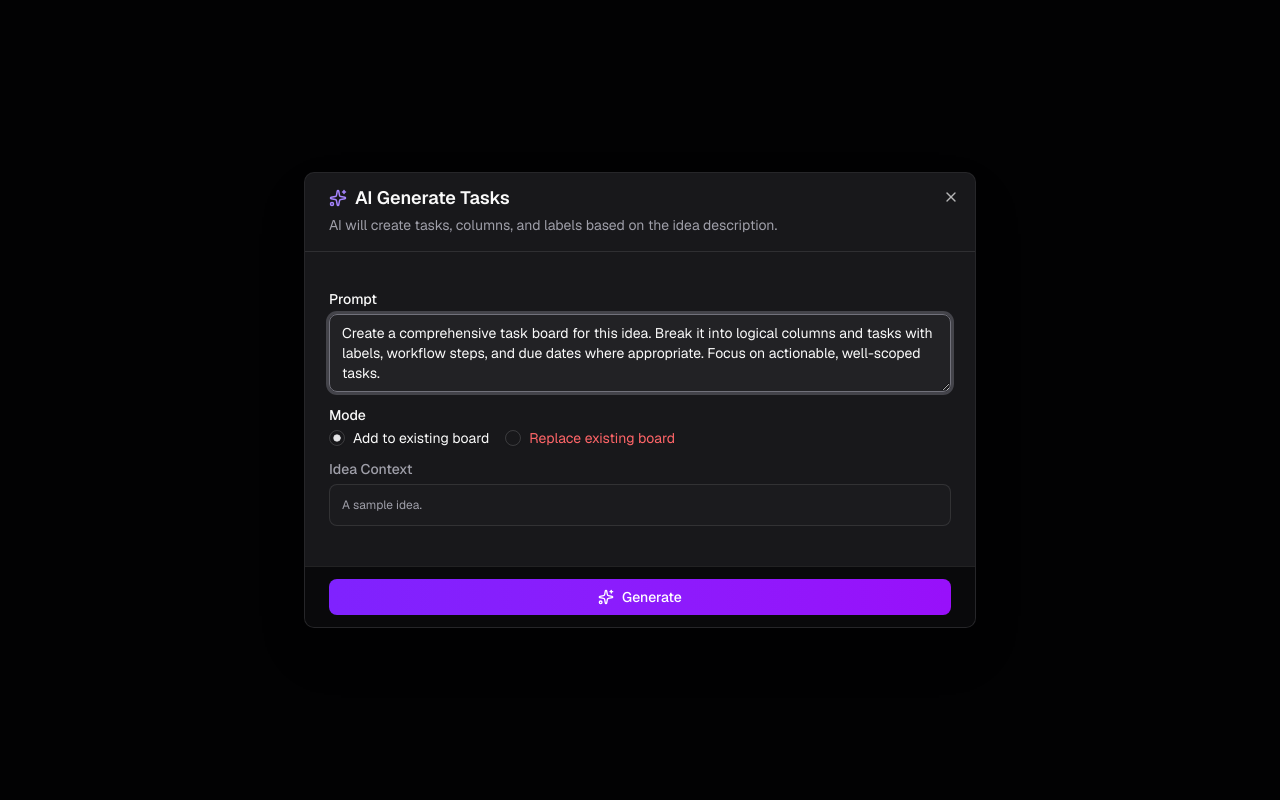
Test case: AiGenerateDialog — Generate the rest › D4: keeps unticked rows unticked and ticks the new ones
Click the button "Generate".
click(640, 597)  # box [329, 579, 951, 615]
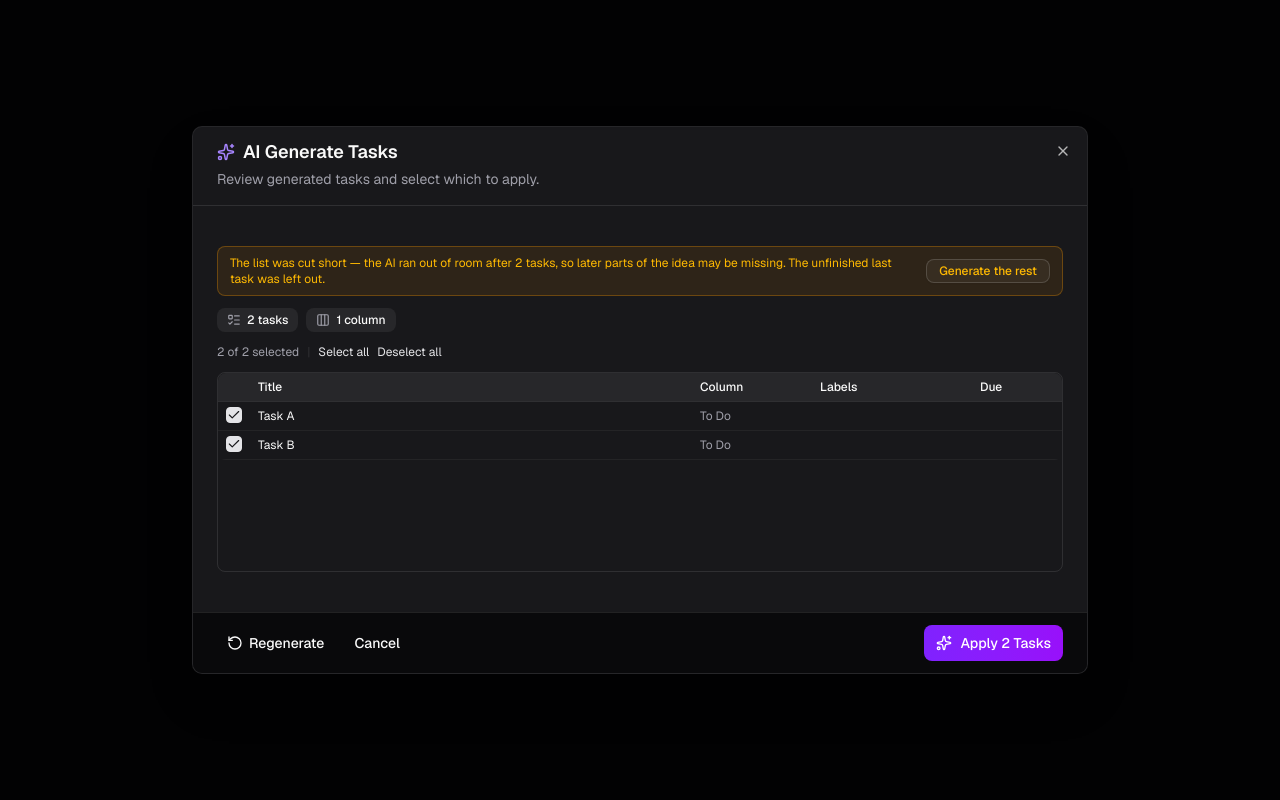
Click the checkbox named "Select task: Task B".
click(234, 444)  # box [226, 436, 242, 452]
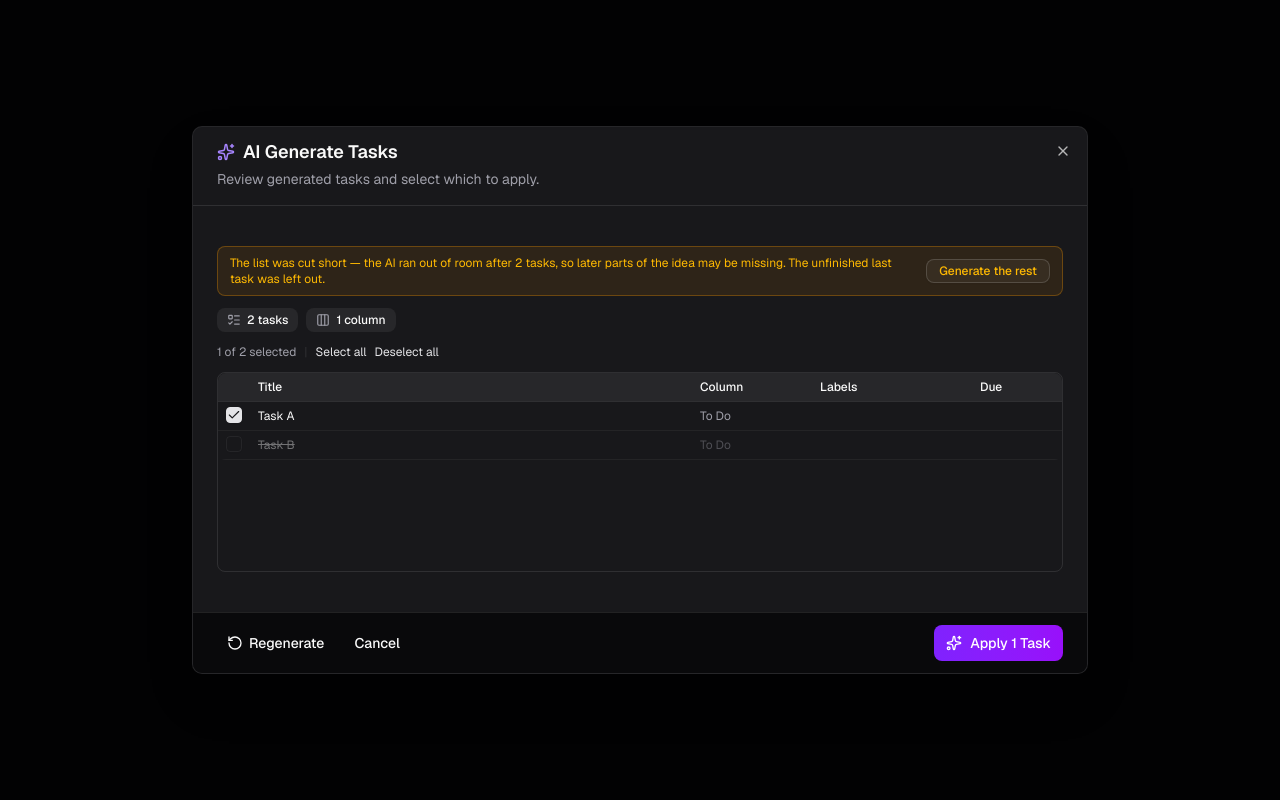
Expected: the button "Apply 1 Task" is shown, [934, 625, 1063, 661]
Click the button "Generate the rest".
click(988, 271)  # box [926, 259, 1050, 283]
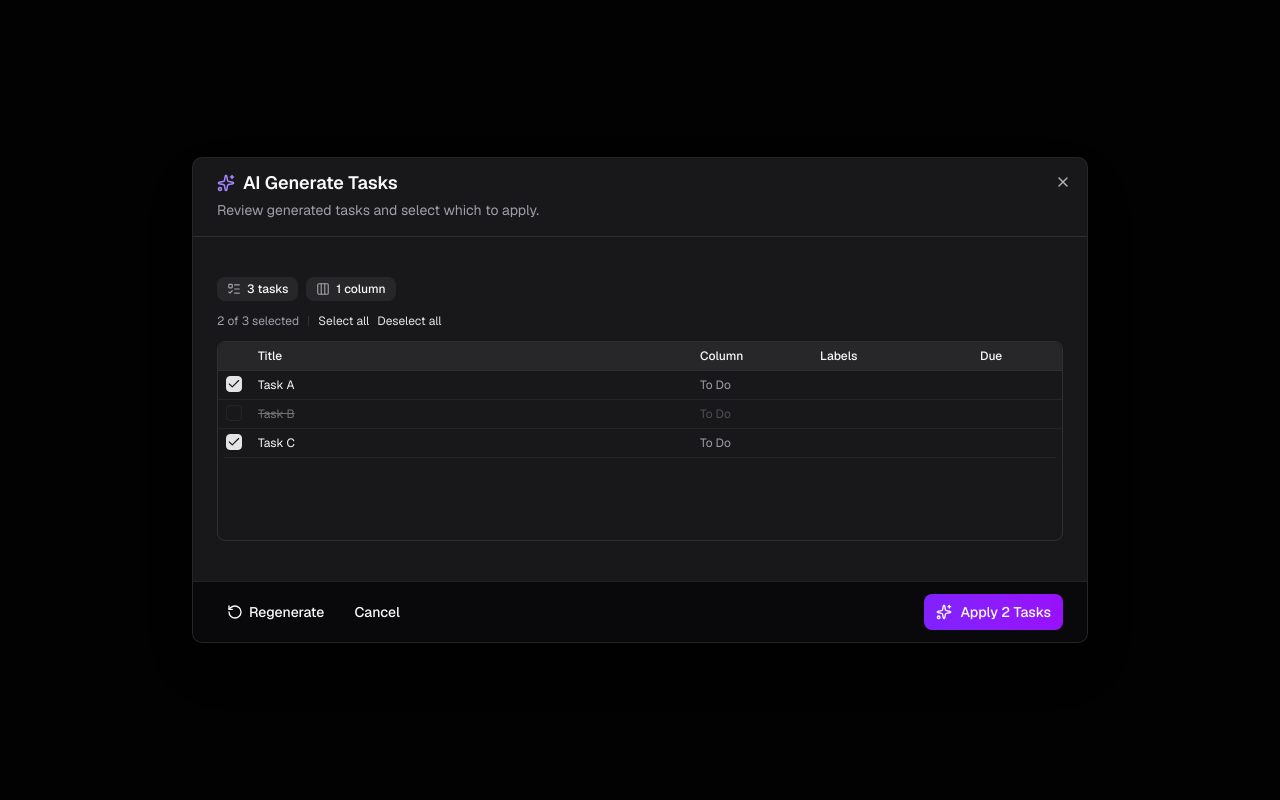
Expected: the button "Apply 2 Tasks" is shown, [924, 594, 1063, 630]
